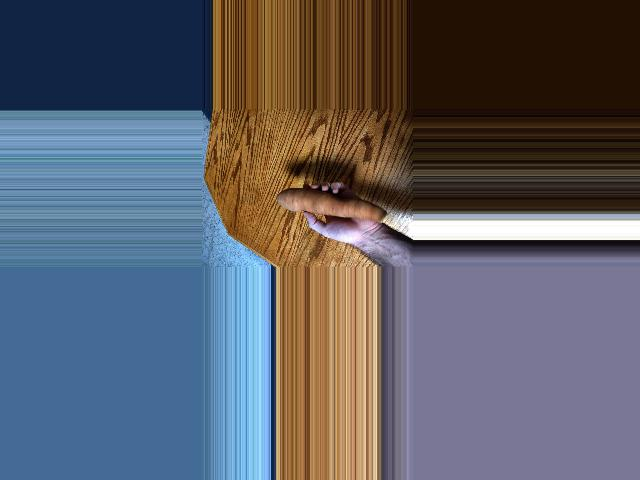sweet_potato: (276, 180, 381, 223)
